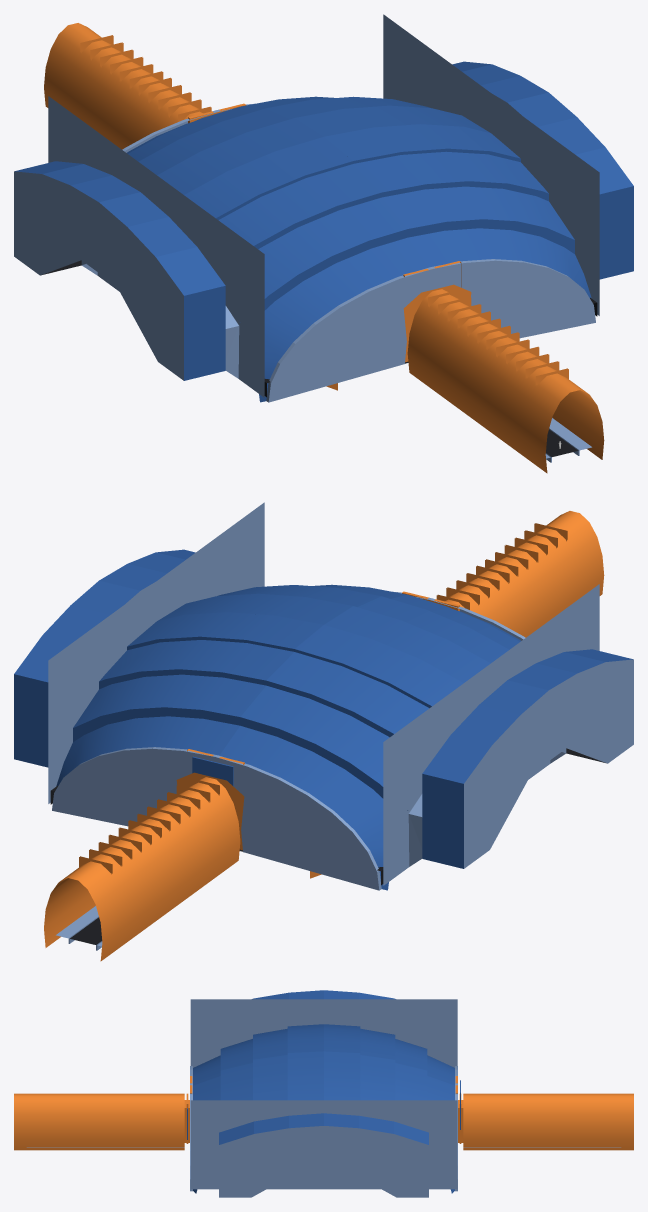
The model's file is game_level_test_v05_2.FBX.
3 renders of one model, top to bottom at view 1: azimuth 30°, elevation 25°; view 2: azimuth 150°, elevation 25°; view 3: azimuth 270°, elevation 25°, orthographic. The views are drawn at different scales.
Parts seen in each view (by area): view 1: Object483, Object482, Object481, Cylinder024, Cylinder023, Object473, Object484, Object476, Object471, Object478, Object479, Object475 (+8 smaller); view 2: Object484, Object308, Object480, Cylinder023, Cylinder024, Object467, Object483, Object474, Object297, Object479, Object478, Object289 (+9 smaller); view 3: Cylinder023, Cylinder024, Object297, Object471, Object291, Object477, Object473, Object467, Object308, Object482, Object484, Object483 (+6 smaller).
Part boxes in pixels (box(x1,y1,x2,y2)): Object483: box(184, 137, 428, 402); Object482: box(324, 124, 591, 298); Object481: box(266, 259, 595, 402); Cylinder024: box(407, 289, 604, 473); Cylinder023: box(44, 23, 202, 149); Object473: box(156, 175, 264, 397); Object484: box(127, 106, 323, 194); Object476: box(99, 192, 225, 380); Object471: box(491, 93, 599, 315); Object478: box(99, 202, 183, 380); Object479: box(14, 171, 98, 275); Object475: box(508, 92, 633, 279); Object484: box(219, 625, 463, 890); Object308: box(56, 612, 323, 786); Object480: box(52, 747, 381, 890); Cylinder023: box(44, 777, 240, 961); Cylinder024: box(445, 511, 604, 637); Object467: box(383, 663, 491, 885); Object483: box(324, 594, 520, 682); Object474: box(422, 680, 548, 868); Object297: box(48, 582, 156, 803); Object479: box(464, 690, 548, 868); Object478: box(549, 659, 633, 763); Object289: box(14, 580, 140, 767); Cylinder023: box(463, 1093, 633, 1150); Cylinder024: box(14, 1093, 184, 1150); Object297: box(324, 1100, 457, 1189); Object471: box(190, 1100, 323, 1189); Object291: box(324, 1126, 428, 1197); Object477: box(219, 1126, 323, 1197); Object473: box(190, 999, 323, 1067); Object467: box(324, 999, 457, 1067); Object308: box(324, 1051, 454, 1193); Object482: box(193, 1051, 323, 1193); Object484: box(324, 1024, 454, 1085); Object483: box(193, 1024, 323, 1085).
Size of the model in its own units: 11485 by 22188 by 4034.
